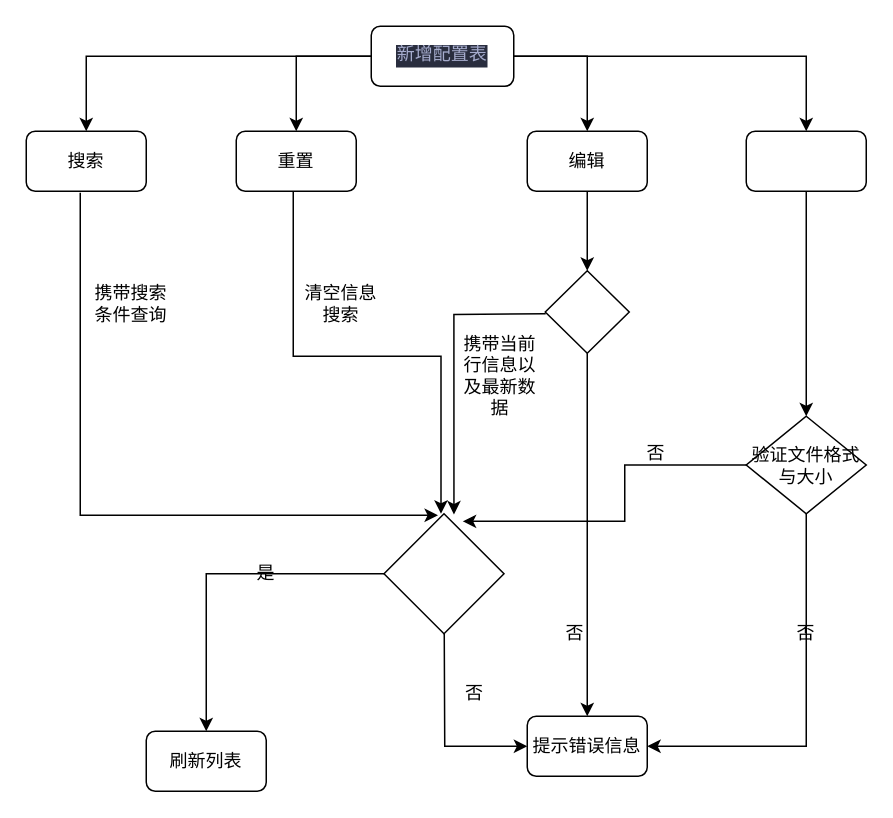
Some shapes in this 893 by 818 pixel diagram are drawn without their labels. The box of each missing label's shape, as (x1, y1, x2, y2) in pixels:
导入: (745, 130, 866, 191)
表单校验: (544, 269, 629, 353)
调用接口 是否成功: (382, 512, 504, 634)
